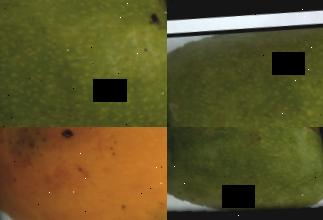Ripe: (0, 127, 167, 220)
Unripe: (0, 0, 167, 127), (167, 15, 323, 127), (167, 127, 323, 220)
